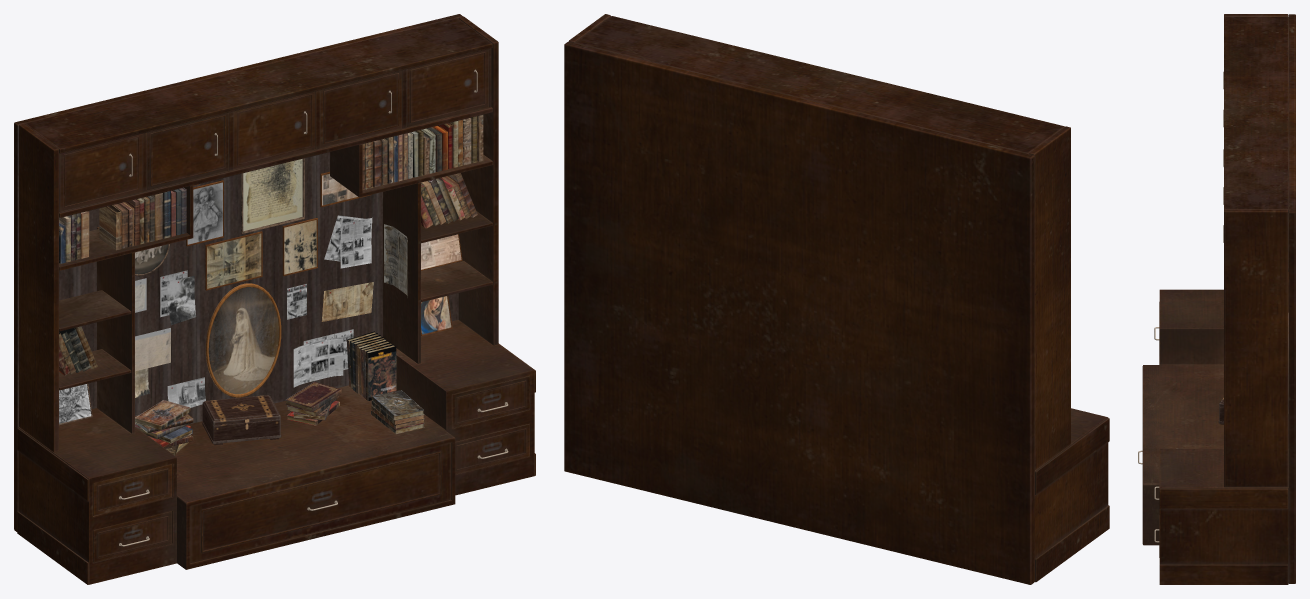
Rendered from book_shelf.glb.
3 renders of one model, left to right at view 1: azimuth 30°, elevation 25°; view 2: azimuth 150°, elevation 25°; view 3: azimuth 270°, elevation 25°, orthographic. The views are drawn at different scales.
Parts seen in each view (by area): view 1: XI_AR_Book_Shelf.Shape; view 2: XI_AR_Book_Shelf.Shape; view 3: XI_AR_Book_Shelf.Shape.
Boxes of the visible parts, left/top/right/bottom form: XI_AR_Book_Shelf.Shape: left=14, top=14, right=535, bottom=584; XI_AR_Book_Shelf.Shape: left=564, top=14, right=1109, bottom=584; XI_AR_Book_Shelf.Shape: left=1138, top=14, right=1295, bottom=584.
Bounding box in the file's own units: 2.77 × 2.41 × 0.9263.
2 materials, 2 textured.
